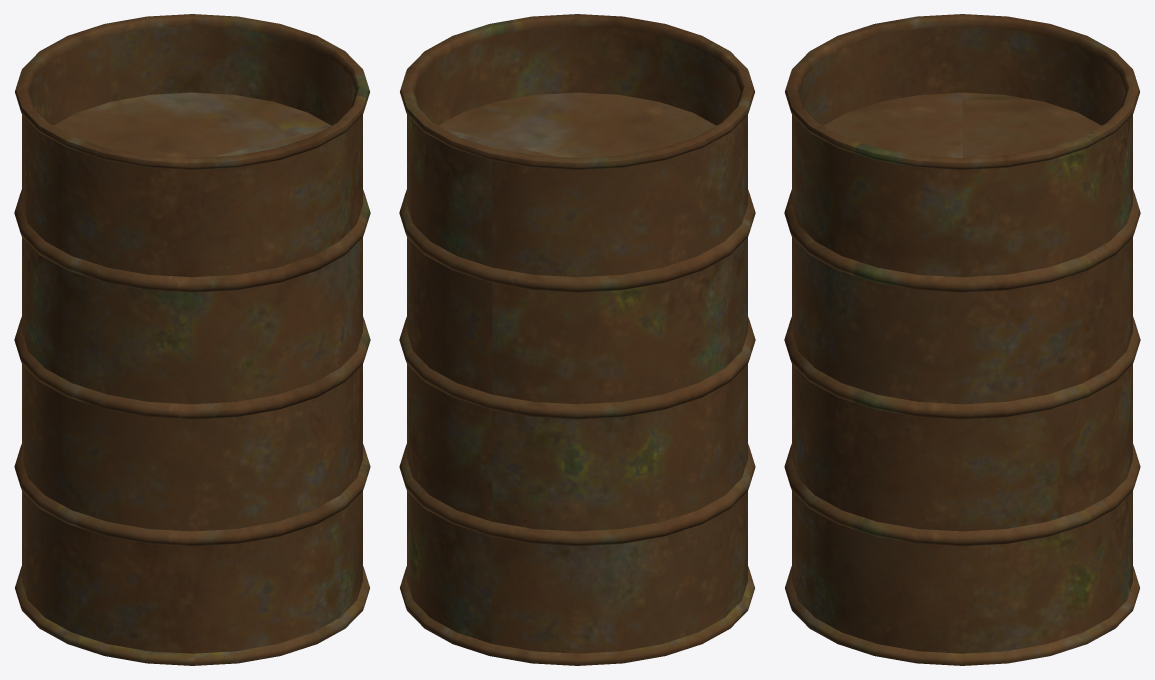
The model's file is Metal_Barrel01.fbx.
3 renders of one model, left to right at view 1: azimuth 30°, elevation 25°; view 2: azimuth 150°, elevation 25°; view 3: azimuth 270°, elevation 25°, orthographic.
Parts seen in each view (by area): view 1: Metal_Barrel01; view 2: Metal_Barrel01; view 3: Metal_Barrel01.
Part boxes in pixels (bbox=[...]): Metal_Barrel01: bbox=[14, 14, 370, 665]; Metal_Barrel01: bbox=[399, 14, 755, 665]; Metal_Barrel01: bbox=[784, 14, 1140, 665].
Bounding box in the file's own units: 65.66 × 103 × 65.66.
